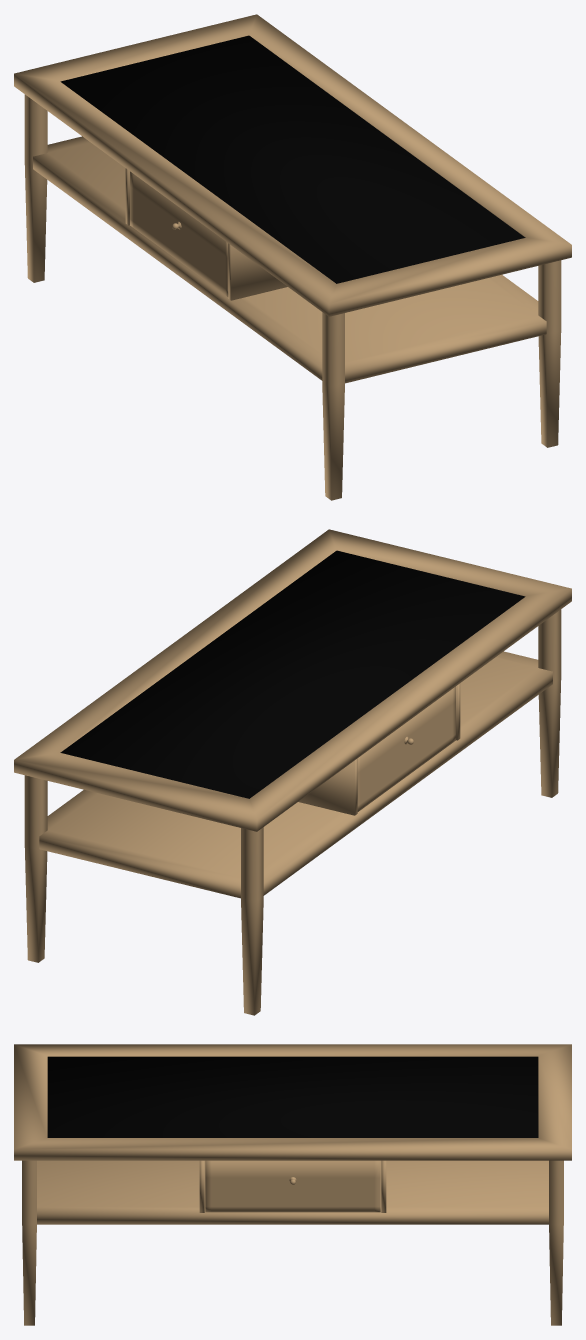
3 renders of one model, top to bottom at view 1: azimuth 30°, elevation 25°; view 2: azimuth 150°, elevation 25°; view 3: azimuth 270°, elevation 25°, orthographic. The views are drawn at different scales.
Visible parts, largest first — view 1: table2_Cube.001, glass2_Cube; view 2: table2_Cube.001, glass2_Cube; view 3: table2_Cube.001, glass2_Cube.
Boxes of the visible parts, x1,y1,x2,y2 form: table2_Cube.001: (14, 14, 571, 500); glass2_Cube: (60, 35, 525, 283); table2_Cube.001: (14, 529, 571, 1015); glass2_Cube: (60, 550, 525, 798); table2_Cube.001: (14, 1044, 571, 1325); glass2_Cube: (47, 1056, 538, 1137).
Size of the model in its own units: 0.6416 by 0.5113 by 1.44.
